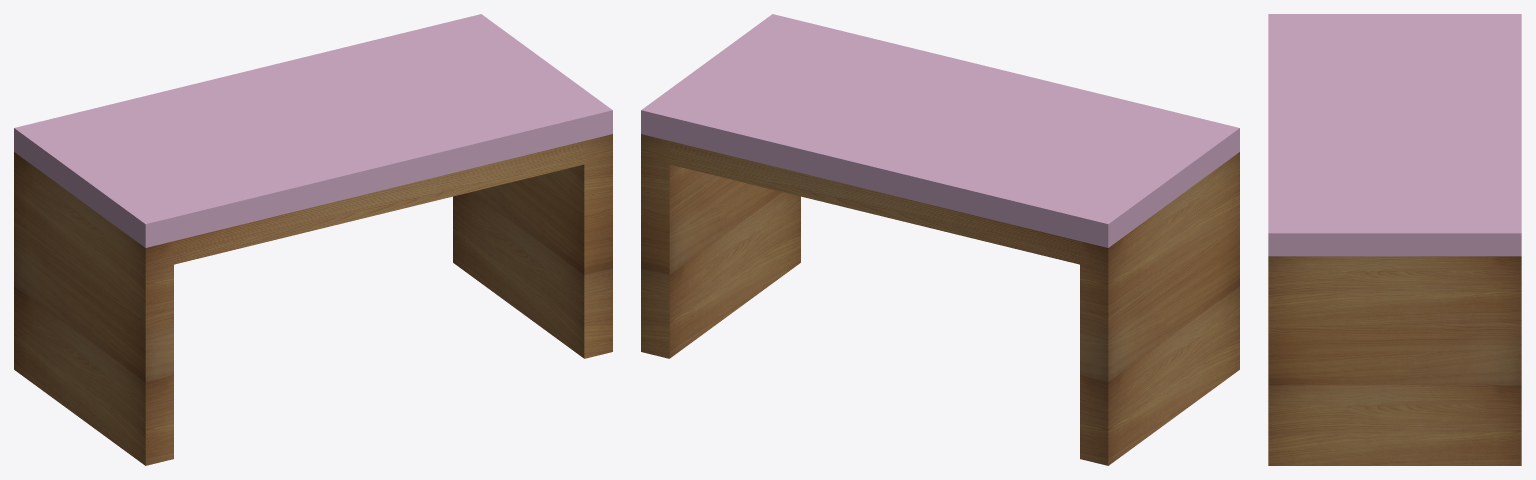
File: Prop_SC_Chair2.FBX
3 views of the same model, side by side, from view 1: azimuth 30°, elevation 25°; view 2: azimuth 150°, elevation 25°; view 3: azimuth 270°, elevation 25° (orthographic). The views are drawn at different scales.
Visible parts, largest first — view 1: Prop_SC_Chair2; view 2: Prop_SC_Chair2; view 3: Prop_SC_Chair2.
Part boxes in pixels (x1,y1,x2,y2): Prop_SC_Chair2: (14, 14, 612, 465); Prop_SC_Chair2: (641, 14, 1239, 465); Prop_SC_Chair2: (1268, 14, 1521, 465).
Bounding box in the file's own units: 40.39 × 19.97 × 19.69.
